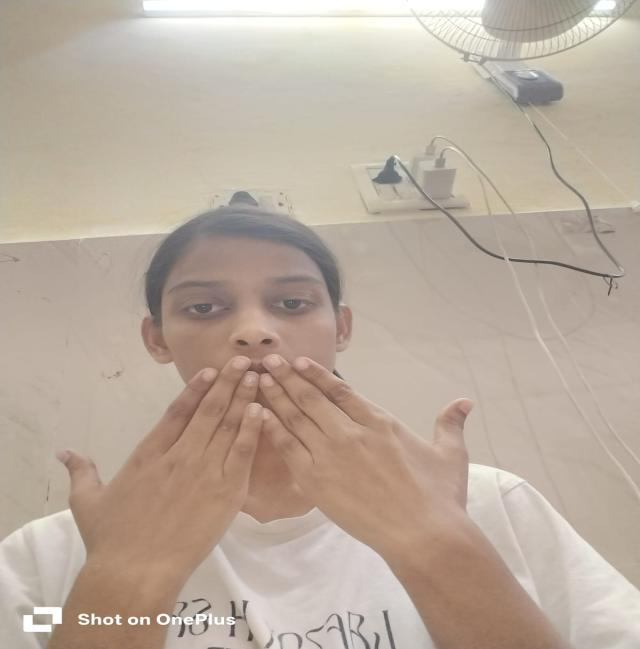Thanks: (45, 344, 489, 577)
